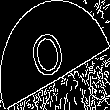O_SE: (33, 23, 77, 87)
